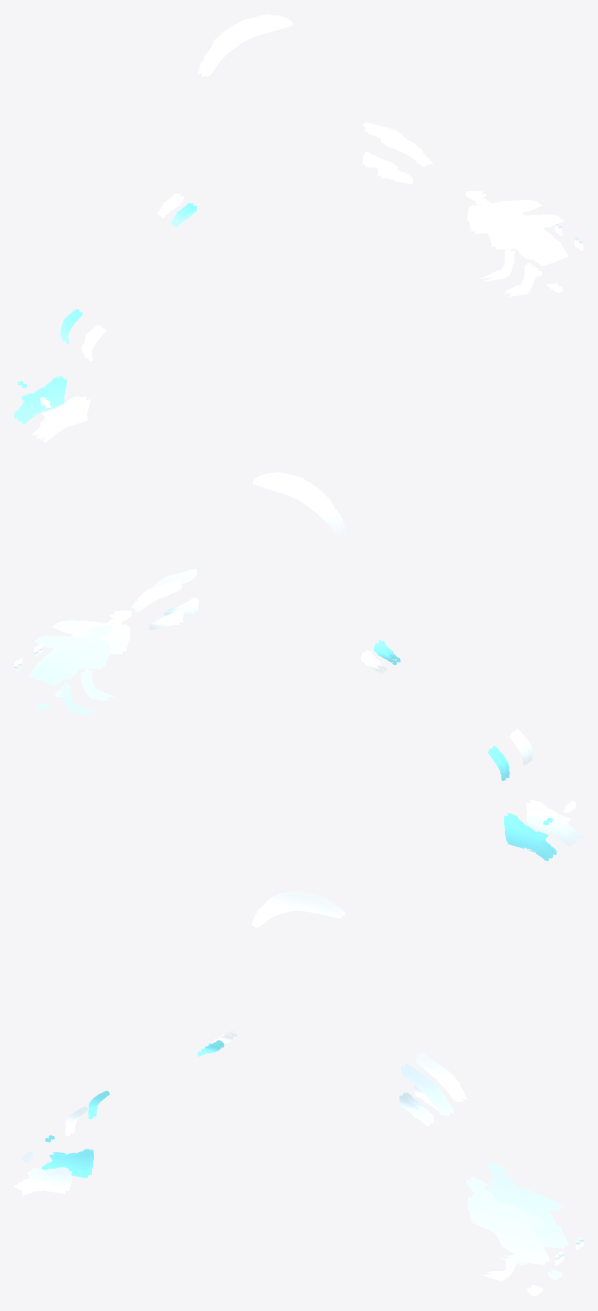
File: yuna_curve_bundle_hair_v1_repair_attempt_03.glb
3 views of the same model, one above another, from view 1: azimuth 30°, elevation 25°; view 2: azimuth 150°, elevation 25°; view 3: azimuth 330°, elevation 25° (orthographic).
Visible parts, largest first — view 1: back_hair_mass_repair_03_01_01, bangs_primary_repair_03_01_01, side_hair_right_primary_repair_03_01_01, back_hair_mass_repair_03_02_01, side_hair_left_primary_repair_03_01_01, side_hair_right_primary_repair_03_02_01; view 2: side_hair_right_primary_repair_03_01_02, bangs_primary_repair_03_01_02, side_hair_right_primary_repair_03_01_01, back_hair_mass_repair_03_01_03, side_hair_left_primary_repair_03_01_02, back_hair_mass_repair_03_01_01, back_hair_mass_repair_03_02_03, bangs_primary_repair_03_01_01, bangs_primary_repair_03_02_02, side_hair_left_primary_repair_03_01_01; view 3: back_hair_mass_repair_03_01_01, side_hair_right_primary_repair_03_01_01, bangs_primary_repair_03_01_01, back_hair_mass_repair_03_02_01, side_hair_right_primary_repair_03_02_01, side_hair_left_primary_repair_03_01_01, bangs_primary_repair_03_02_01, back_hair_mass_repair_03_01_02, back_hair_mass_repair_03_01_03, side_hair_right_primary_repair_03_01_02.
Part boxes in pixels (left/top/right/bottom): back_hair_mass_repair_03_01_01: left=487, top=206, right=568, bottom=296; bangs_primary_repair_03_01_01: left=200, top=15, right=292, bottom=76; side_hair_right_primary_repair_03_01_01: left=467, top=191, right=542, bottom=281; back_hair_mass_repair_03_02_01: left=32, top=396, right=90, bottom=443; side_hair_left_primary_repair_03_01_01: left=14, top=376, right=66, bottom=424; side_hair_right_primary_repair_03_02_01: left=380, top=134, right=433, bottom=183; side_hair_right_primary_repair_03_01_02: left=29, top=626, right=110, bottom=714; bangs_primary_repair_03_01_02: left=265, top=473, right=346, bottom=534; side_hair_right_primary_repair_03_01_01: left=34, top=625, right=111, bottom=715; back_hair_mass_repair_03_01_03: left=52, top=612, right=130, bottom=701; side_hair_left_primary_repair_03_01_02: left=504, top=813, right=551, bottom=861; back_hair_mass_repair_03_01_01: left=54, top=610, right=132, bottom=700; back_hair_mass_repair_03_02_03: left=526, top=802, right=573, bottom=847; bangs_primary_repair_03_01_01: left=252, top=472, right=344, bottom=529; bangs_primary_repair_03_02_02: left=133, top=580, right=181, bottom=622; side_hair_left_primary_repair_03_01_01: left=504, top=813, right=556, bottom=860; back_hair_mass_repair_03_01_01: left=465, top=1178, right=548, bottom=1296; side_hair_right_primary_repair_03_01_01: left=486, top=1163, right=567, bottom=1279; bangs_primary_repair_03_01_01: left=253, top=891, right=345, bottom=927; back_hair_mass_repair_03_02_01: left=14, top=1152, right=71, bottom=1196; side_hair_right_primary_repair_03_02_01: left=401, top=1064, right=454, bottom=1124; side_hair_left_primary_repair_03_01_01: left=41, top=1136, right=93, bottom=1177; bangs_primary_repair_03_02_01: left=416, top=1053, right=467, bottom=1104; back_hair_mass_repair_03_01_02: left=466, top=1177, right=548, bottom=1295; back_hair_mass_repair_03_01_03: left=467, top=1176, right=549, bottom=1294; side_hair_right_primary_repair_03_01_02: left=487, top=1162, right=568, bottom=1279.
Size of the model in its own units: 3.1 by 1.82 by 0.412.
Materials: 5 (4 with a texture image).
